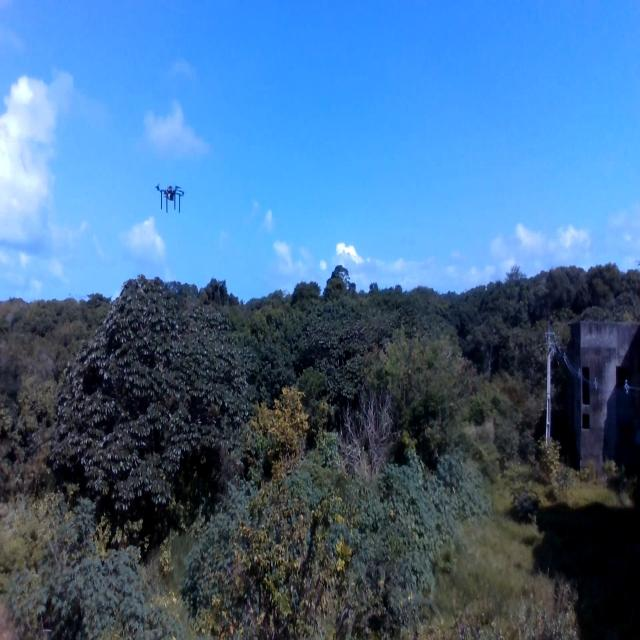-uav-: (153, 166, 189, 224)
